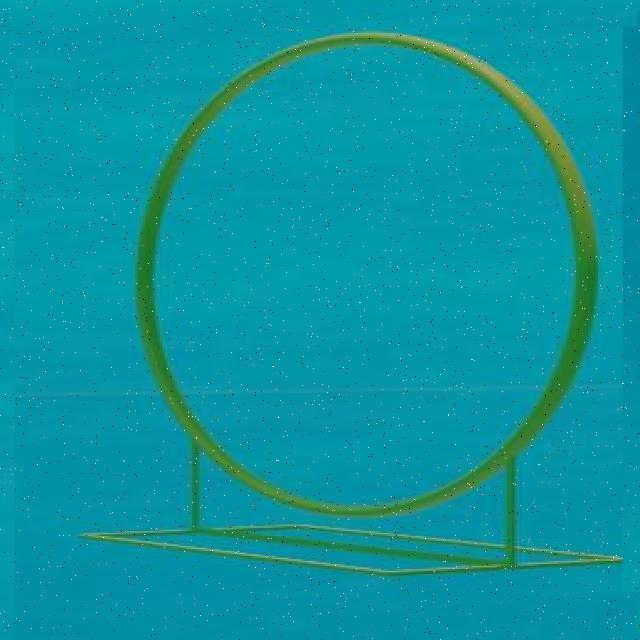Circle: (139, 32, 600, 515)
